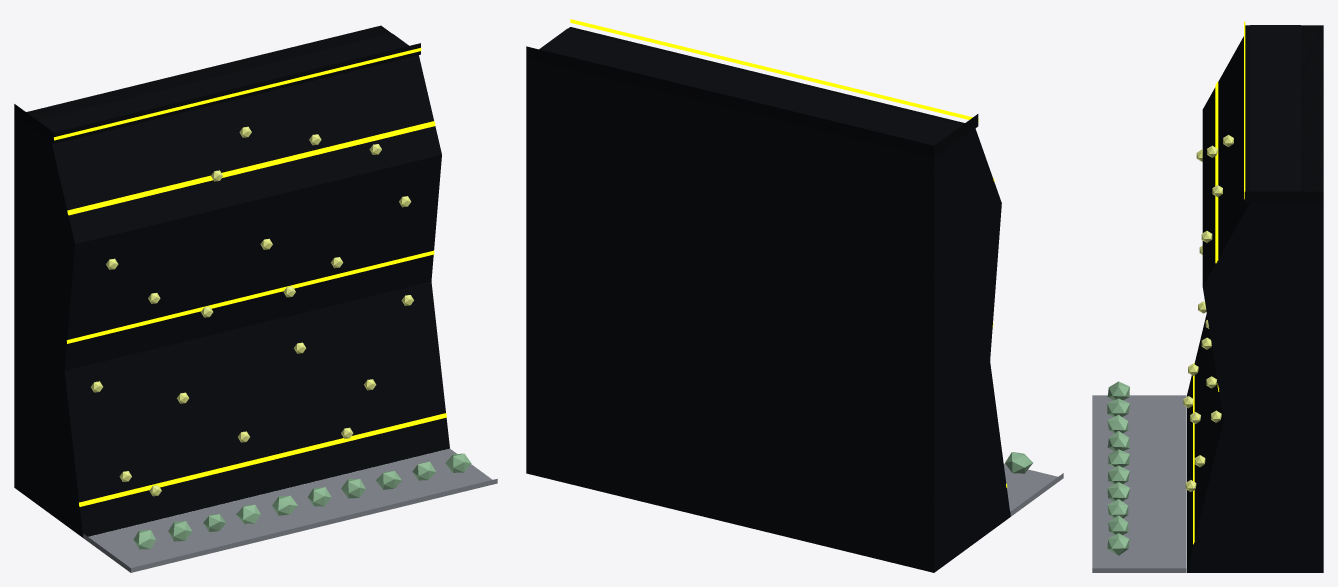
3 renders of one model, left to right at view 1: azimuth 30°, elevation 25°; view 2: azimuth 150°, elevation 25°; view 3: azimuth 270°, elevation 25°, orthographic. The views are drawn at different scales.
Visible parts, largest first — view 1: Boulder_Facets, Base_Mat, Coping, Route_Tape, Skirt_Core, Base_Moss, Tennis_Ball_Holds, Coping_Court_Line; view 2: Skirt_Core, Boulder_Facets, Coping, Coping_Court_Line, Base_Mat; view 3: Boulder_Facets, Base_Mat, Skirt_Core, Coping, Base_Moss, Tennis_Ball_Holds, Route_Tape, Coping_Court_Line.
Boxes of the visible parts, x1=… form: Boulder_Facets: x1=25, y1=33, x2=449, y2=537; Base_Mat: x1=83, y1=448, x2=497, y2=572; Coping: x1=14, y1=25, x2=420, y2=143; Route_Tape: x1=67, y1=121, x2=446, y2=506; Skirt_Core: x1=14, y1=115, x2=25, y2=495; Base_Moss: x1=133, y1=453, x2=471, y2=549; Tennis_Ball_Holds: x1=91, y1=126, x2=413, y2=496; Coping_Court_Line: x1=54, y1=48, x2=421, y2=140; Skirt_Core: x1=526, y1=59, x2=946, y2=572; Boulder_Facets: x1=539, y1=28, x2=1010, y2=563; Coping: x1=526, y1=27, x2=978, y2=157; Coping_Court_Line: x1=570, y1=19, x2=978, y2=121; Base_Mat: x1=1003, y1=463, x2=1063, y2=516; Boulder_Facets: x1=1187, y1=25, x2=1300, y2=572; Base_Mat: x1=1092, y1=395, x2=1186, y2=572; Skirt_Core: x1=1300, y1=202, x2=1323, y2=572; Coping: x1=1244, y1=25, x2=1323, y2=202; Base_Moss: x1=1107, y1=381, x2=1129, y2=555; Tennis_Ball_Holds: x1=1183, y1=135, x2=1233, y2=491; Route_Tape: x1=1193, y1=81, x2=1219, y2=544; Coping_Court_Line: x1=1244, y1=21, x2=1245, y2=199.
Size of what is drawn, in the model's own units: 4 by 4 by 2.2.
Materials: 6 (2 with a texture image).
